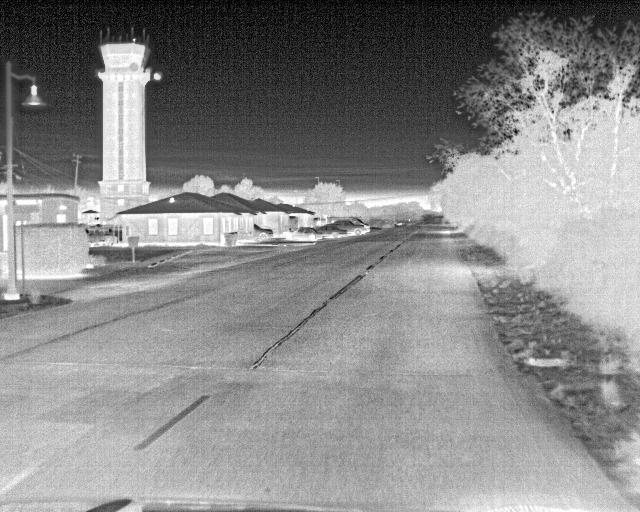car: (86, 227, 118, 247), (278, 227, 317, 242), (346, 216, 372, 234), (315, 224, 345, 239), (331, 221, 362, 235), (253, 223, 274, 241)
